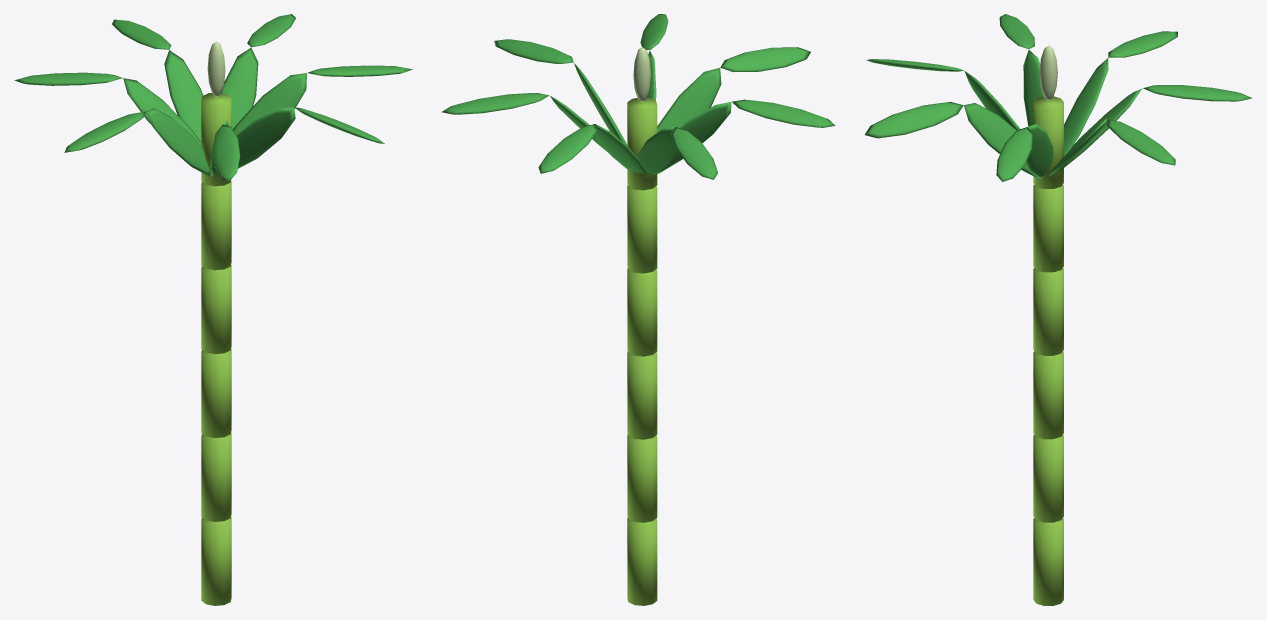
Rendered from cane.glb.
The picture shows the model from 3 angles, left to right: view 1: azimuth 30°, elevation 25°; view 2: azimuth 150°, elevation 25°; view 3: azimuth 270°, elevation 25°; orthographic projection.
Parts seen in each view (by area): view 1: Leaf, Stem, Fruit; view 2: Leaf, Stem, Fruit; view 3: Leaf, Stem, Fruit.
Part boxes in pixels (x1,y1,x2,y2): Leaf: (14,14,412,180); Stem: (201,93,231,605); Fruit: (207,41,225,96); Leaf: (441,14,835,179); Stem: (627,98,657,605); Fruit: (633,47,650,101); Leaf: (864,14,1251,181); Stem: (1033,96,1063,605); Fruit: (1039,45,1057,100).
Size of the model in its own units: 1.3 by 1.99 by 1.27.
